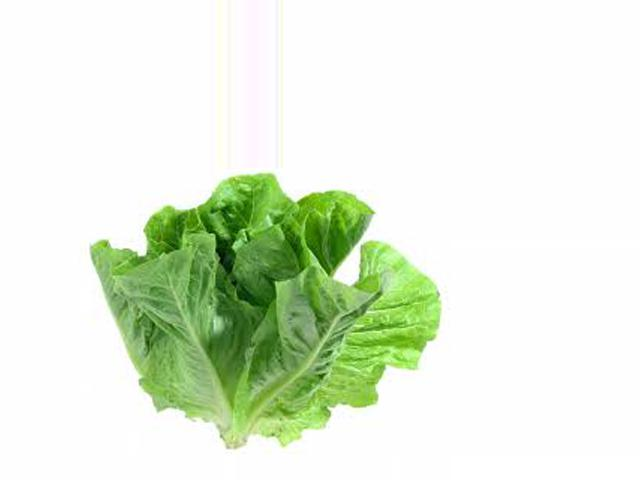lettuce: (83, 174, 436, 434)
